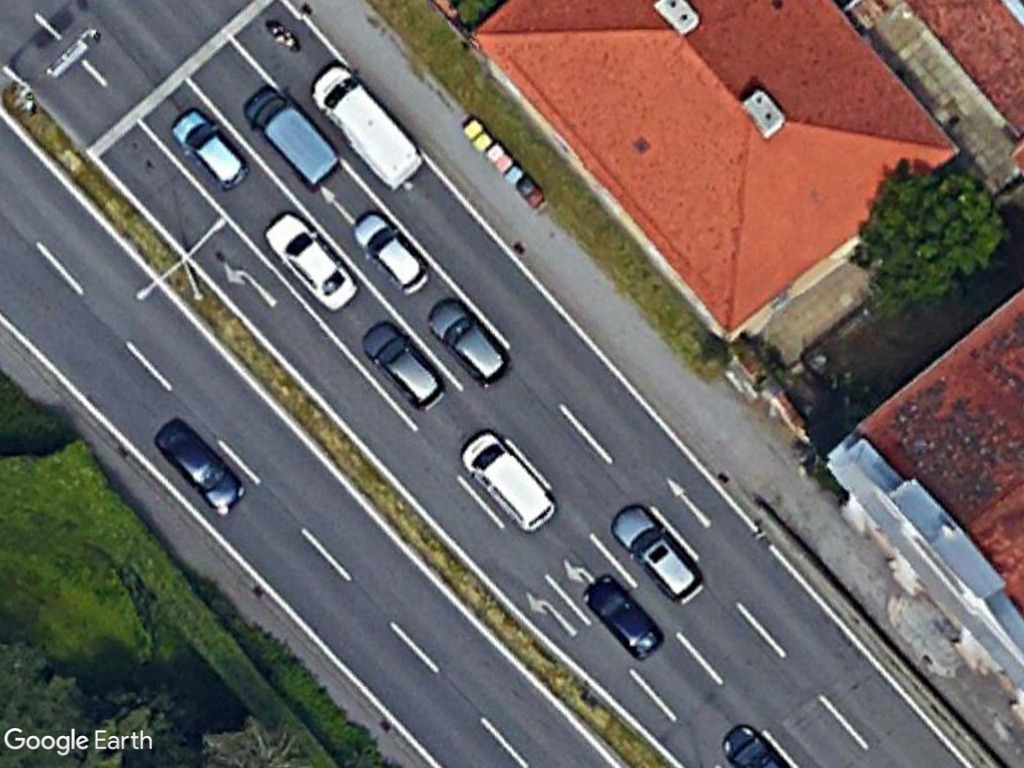car: (457, 423, 562, 537), (258, 204, 359, 312), (607, 500, 708, 608), (150, 414, 252, 515), (357, 316, 455, 421), (574, 572, 671, 667), (420, 292, 511, 388), (350, 205, 441, 299), (162, 105, 254, 197)
van: (308, 54, 428, 197), (238, 75, 343, 195)
